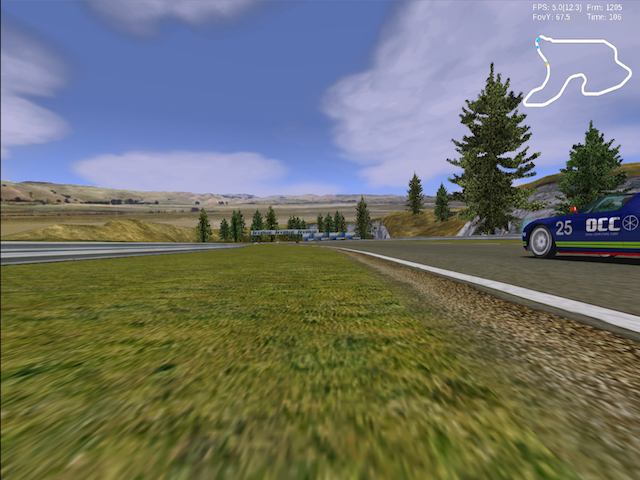FMC_GT4: (520, 190, 640, 259)
